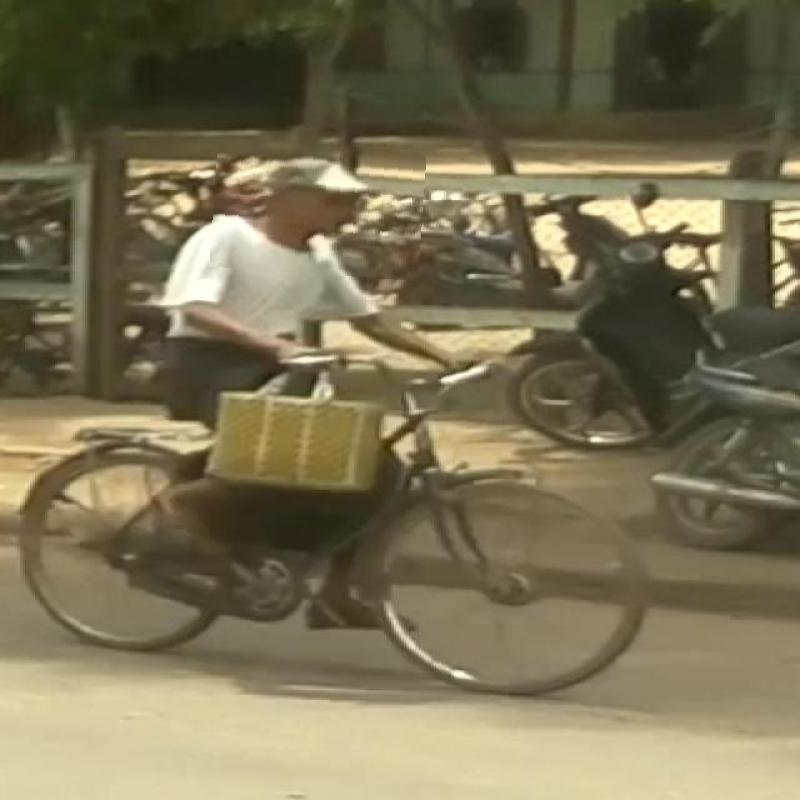nohelmet: (211, 140, 424, 278)
